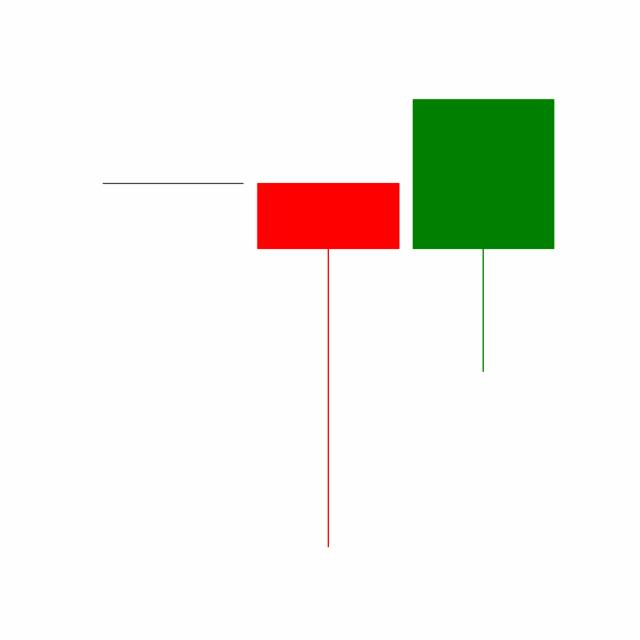Hammer: (249, 178, 406, 551)
